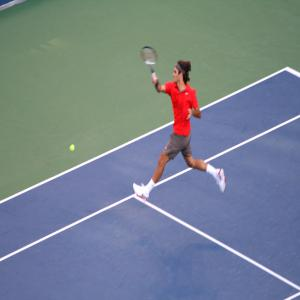TennisBall: (71, 145, 75, 152)
